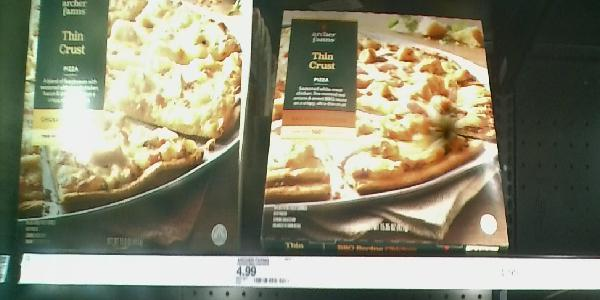pizza1: (14, 1, 254, 256), (259, 9, 505, 251)
